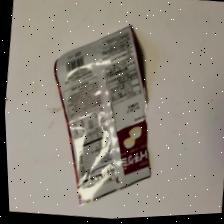plastic: (56, 26, 149, 204)
